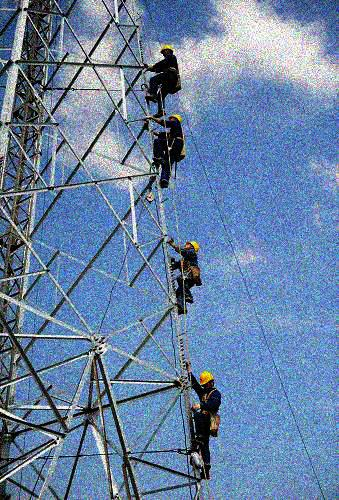helmet: (198, 370, 216, 391), (183, 239, 200, 253), (159, 44, 175, 57), (169, 114, 182, 123)
